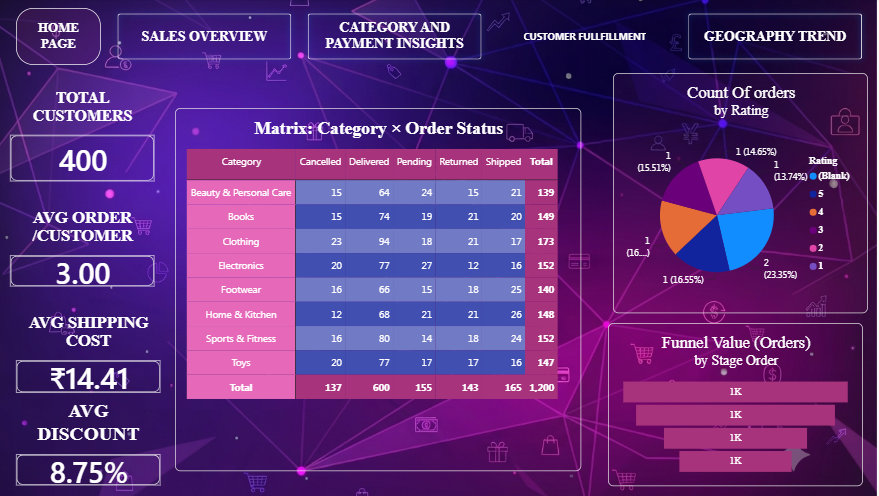

What the dashboard file says about the page in this screenshot:
{"tool":"powerbi","page":{"name":"CUSTOMER FULLFILLMENT","canvas":[1280,720],"ordinal":3},"visuals":[{"type":"cardVisual","title":"TOTAL CUSTOMERS","fields":{"Data":["Sales Data.Total Customers"]},"box":[47.5,61.9,208.8,135.4],"z":0},{"type":"cardVisual","title":"AVG ORDER /CUSTOMER","fields":{"Data":["Sales Data.Avg Orders per Customer"]},"box":[47.5,224.6,208.8,135.4],"z":1000},{"type":"cardVisual","title":"AVG DISCOUNT","fields":{"Data":["Sales Data.Avg Discount"]},"box":[47.5,557.3,208.8,145.4],"z":2000},{"type":"cardVisual","title":"AVG SHIPPING COST","fields":{"Data":["Sales Data.Avg Shipping Cost"]},"box":[47.5,394.6,208.8,138.2],"z":3000},{"type":"funnel","fields":{"Category":["StageTable_Orders.Stage Order"],"Y":["StageTable_Orders.Funnel Value (Orders)"]},"box":[884.2,394.6,367.2,308.2],"z":4000},{"type":"pivotTable","title":"Matrix: Category × Order Status","fields":{"Rows":["Sales Data.Category"],"Columns":["Sales Data.Order Status"],"Values":["Sales Data.Total Orders"]},"box":[280.8,224.6,584.6,475.2],"z":5000},{"type":"pieChart","fields":{"Category":["Sales Data.Rating"],"Y":["Sales Data.Avg Orders per Customer"]},"box":[884.2,46.1,367.2,338.4],"z":6000}]}

Visuals, with their boxes in screenshot pixels (x1, y1, x2, y2), scaled from the page's 1280x720 canvas onto the 879x496 screenshot:
"TOTAL CUSTOMERS" cardVisual: box=[33, 43, 176, 136]
"AVG ORDER /CUSTOMER" cardVisual: box=[33, 155, 176, 248]
"AVG DISCOUNT" cardVisual: box=[33, 384, 176, 484]
"AVG SHIPPING COST" cardVisual: box=[33, 272, 176, 367]
funnel - StageTable_Orders.Stage Order x StageTable_Orders.Funnel Value (Orders): box=[607, 272, 859, 484]
"Matrix: Category × Order Status" pivotTable: box=[193, 155, 594, 482]
pieChart - Sales Data.Rating x Sales Data.Avg Orders per Customer: box=[607, 32, 859, 265]
